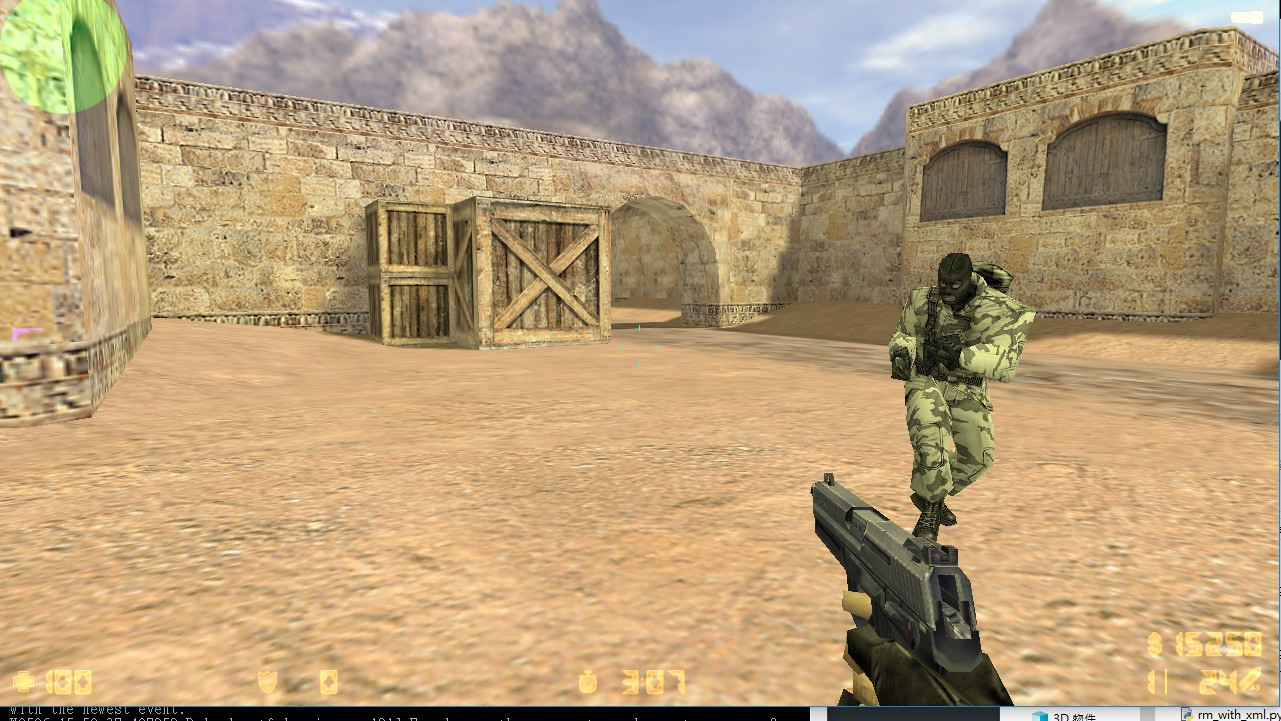person: (885, 246, 1029, 548)
